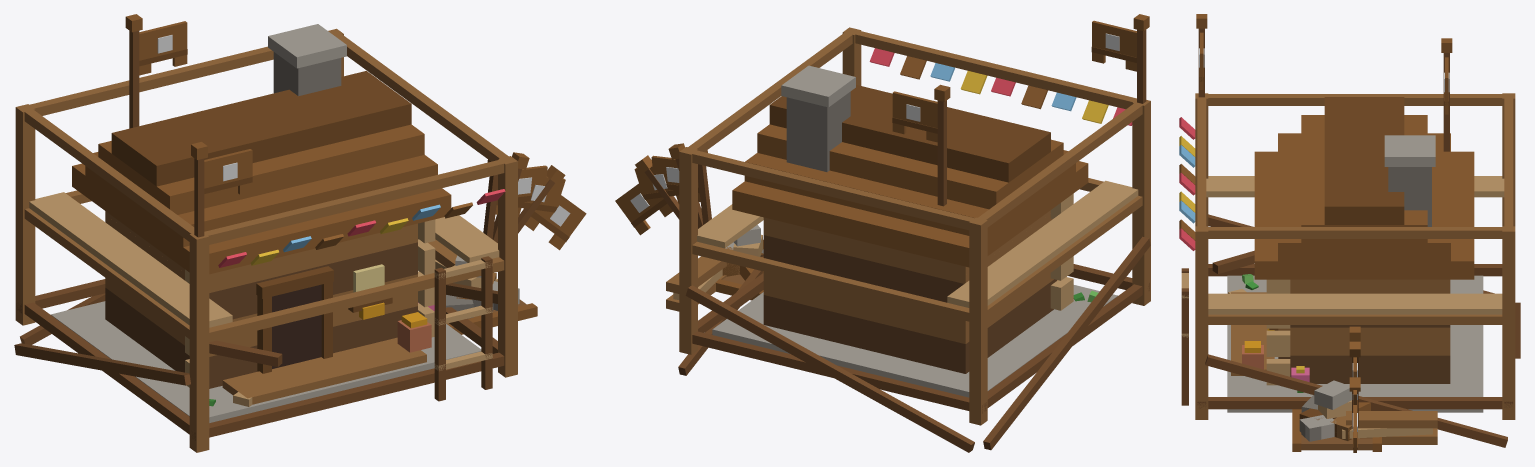
The model's file is bear-home.glb.
3 views of the same model, side by side, from view 1: azimuth 30°, elevation 25°; view 2: azimuth 150°, elevation 25°; view 3: azimuth 270°, elevation 25° (orthographic). The views are drawn at different scales.
Visible parts, largest first — view 1: scaffold-mesh, built-mesh, dismantle-25-mesh, dismantle-75-mesh, dismantle-50-mesh, banner, scaffold-banner, dismantle-25-banner, flag-pole, scaffold-flag-pole, dismantle-50-banner, dismantle-75-banner (+1 smaller); view 2: scaffold-mesh, built-mesh, dismantle-50-mesh, dismantle-75-mesh, dismantle-25-mesh, banner, scaffold-banner, dismantle-25-banner, flag-pole, scaffold-flag-pole, dismantle-50-banner, dismantle-75-banner (+2 smaller); view 3: scaffold-mesh, built-mesh, dismantle-75-mesh, dismantle-25-mesh, dismantle-50-mesh, flag-pole, scaffold-flag-pole.
Boxes of the visible parts, bbox=[...] form: scaffold-mesh: bbox=[14, 28, 517, 452]; built-mesh: bbox=[57, 24, 480, 422]; dismantle-25-mesh: bbox=[51, 255, 537, 417]; dismantle-75-mesh: bbox=[51, 195, 493, 407]; dismantle-50-mesh: bbox=[105, 212, 526, 406]; banner: bbox=[139, 21, 187, 75]; scaffold-banner: bbox=[204, 149, 252, 203]; dismantle-25-banner: bbox=[525, 195, 586, 250]; flag-pole: bbox=[125, 14, 142, 128]; scaffold-flag-pole: bbox=[191, 142, 207, 237]; dismantle-50-banner: bbox=[518, 174, 565, 221]; dismantle-75-banner: bbox=[495, 165, 547, 214]; scaffold-mesh: bbox=[666, 27, 1150, 452]; built-mesh: bbox=[732, 65, 1088, 310]; dismantle-50-mesh: bbox=[723, 211, 1098, 390]; dismantle-75-mesh: bbox=[722, 162, 1050, 390]; dismantle-25-mesh: bbox=[712, 225, 1117, 397]; banner: bbox=[892, 91, 937, 142]; scaffold-banner: bbox=[1091, 20, 1136, 71]; dismantle-25-banner: bbox=[615, 177, 672, 235]; flag-pole: bbox=[934, 84, 950, 206]; scaffold-flag-pole: bbox=[1133, 14, 1149, 103]; dismantle-50-banner: bbox=[634, 163, 679, 208]; dismantle-75-banner: bbox=[651, 155, 700, 201]; scaffold-mesh: bbox=[1179, 93, 1520, 447]; built-mesh: bbox=[1218, 97, 1474, 392]; dismantle-75-mesh: bbox=[1212, 263, 1450, 451]; dismantle-25-mesh: bbox=[1227, 275, 1483, 451]; dismantle-50-mesh: bbox=[1228, 274, 1450, 451]; flag-pole: bbox=[1441, 38, 1452, 151]; scaffold-flag-pole: bbox=[1196, 14, 1207, 97].
Bounding box in the file's own units: 2.7 × 1.82 × 1.87.
